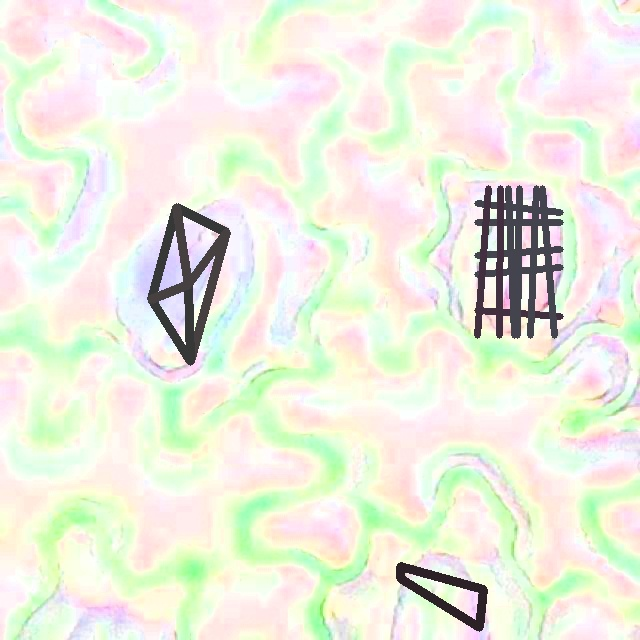open: (474, 185, 563, 338), (147, 203, 230, 365), (396, 562, 487, 631)
